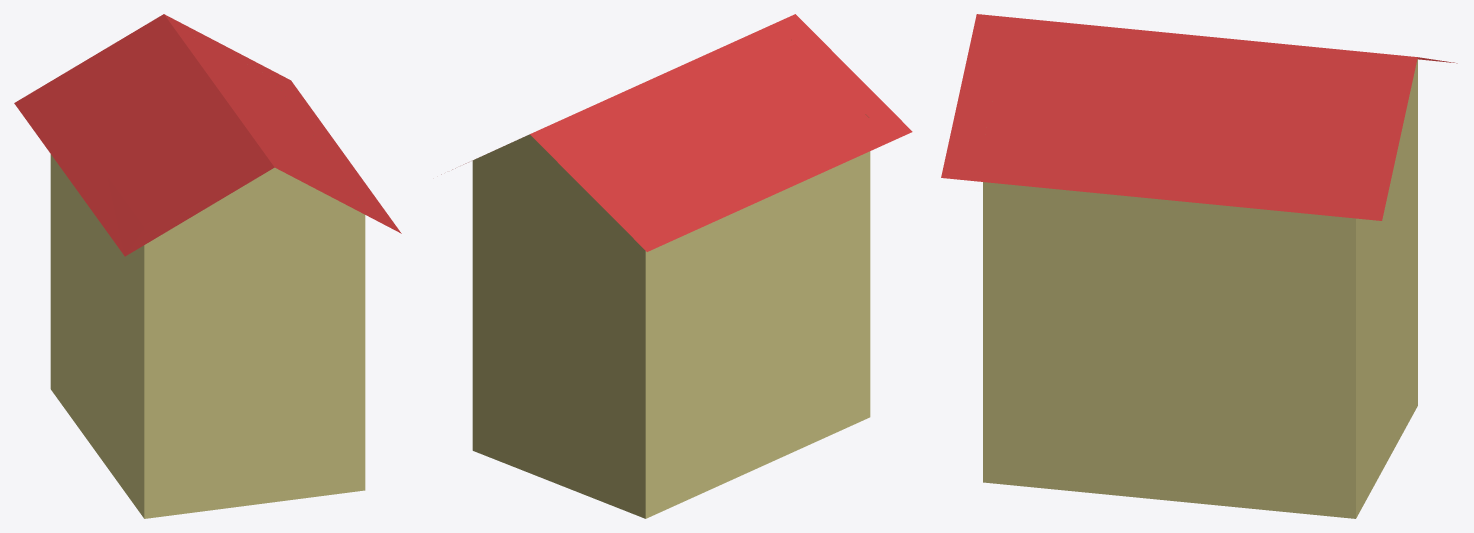
The picture shows the model from 3 angles, left to right: view 1: azimuth 30°, elevation 25°; view 2: azimuth 150°, elevation 25°; view 3: azimuth 270°, elevation 25°; orthographic projection. The views are drawn at different scales.
Size of the model in its own units: 6.28 by 7.43 by 6.55.
